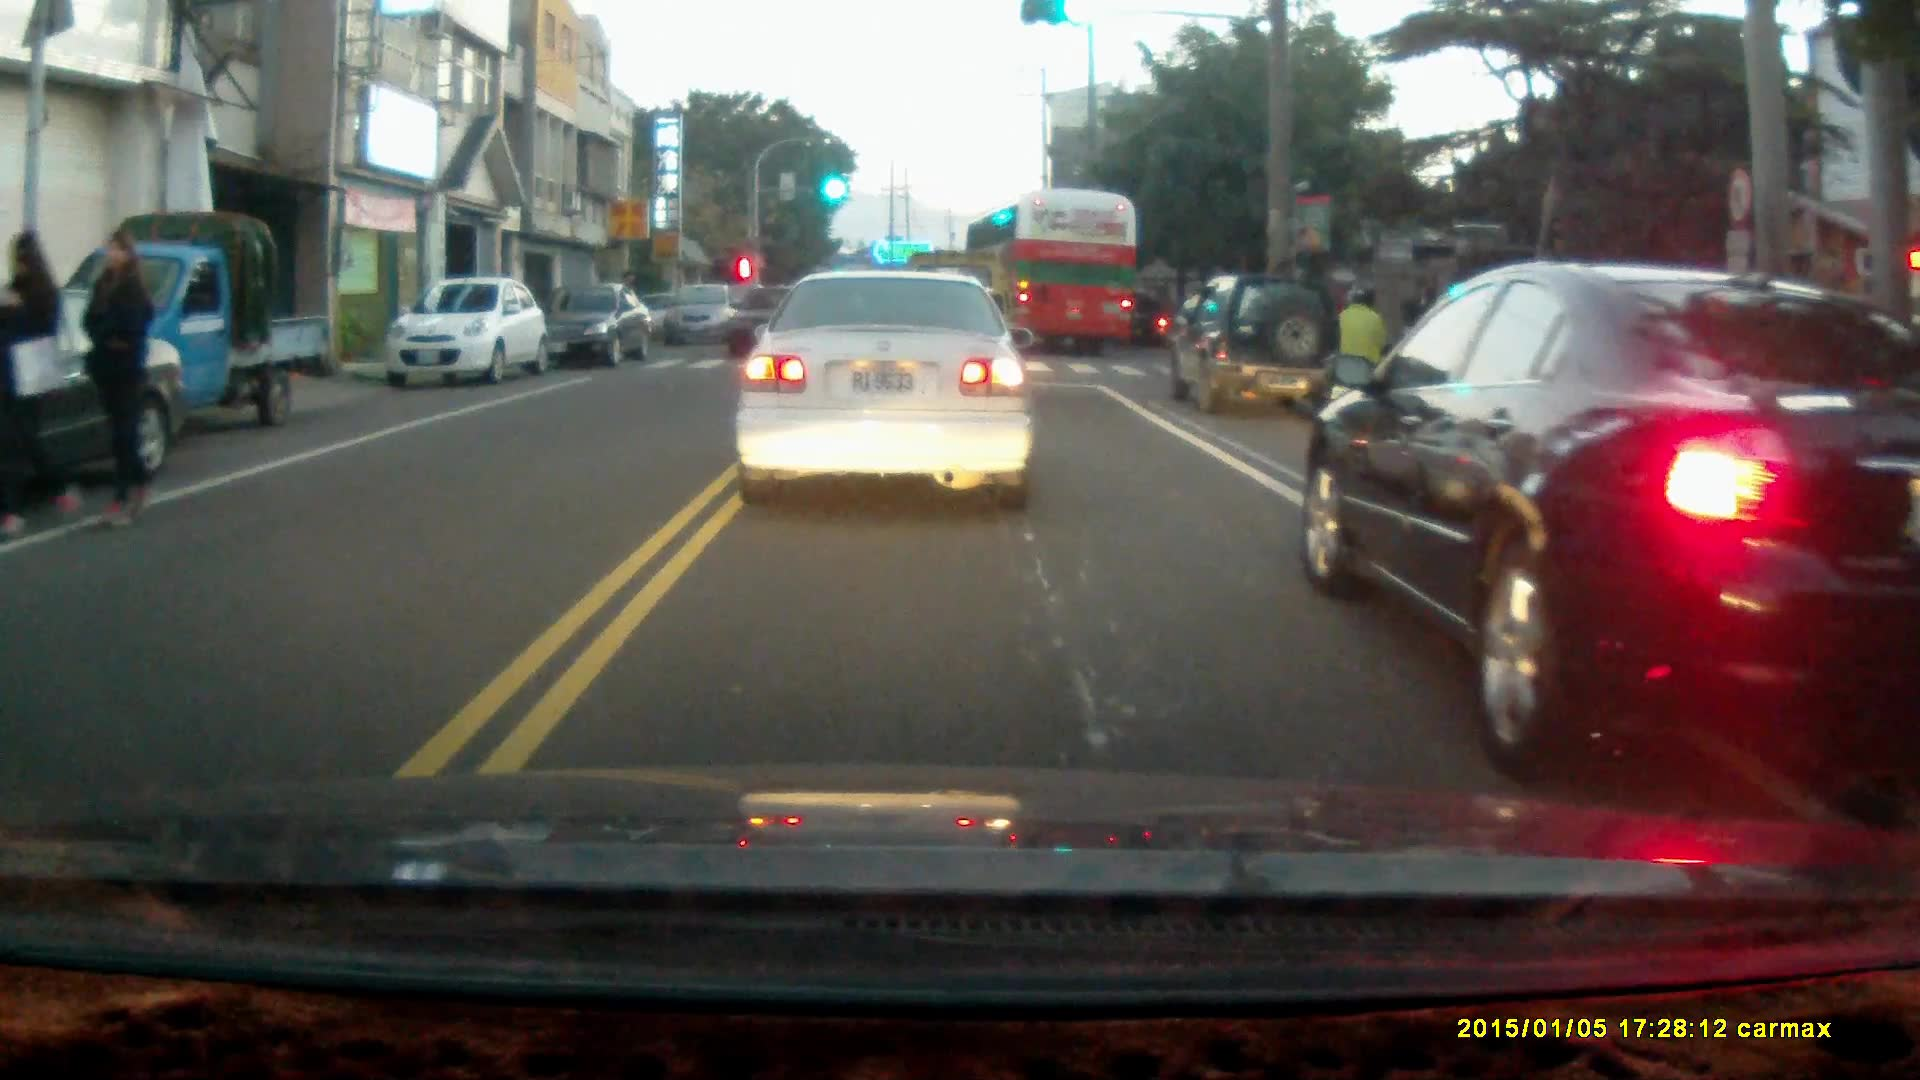pedestrian: (0, 230, 83, 537), (77, 225, 154, 529)
rider: (1328, 283, 1392, 427), (1116, 292, 1171, 349)
vehicle: (1302, 262, 1920, 780), (731, 266, 1036, 515), (62, 212, 324, 432), (1, 284, 189, 515), (963, 191, 1138, 357), (1169, 275, 1347, 422), (385, 280, 543, 389), (543, 281, 659, 370), (658, 286, 743, 354)
